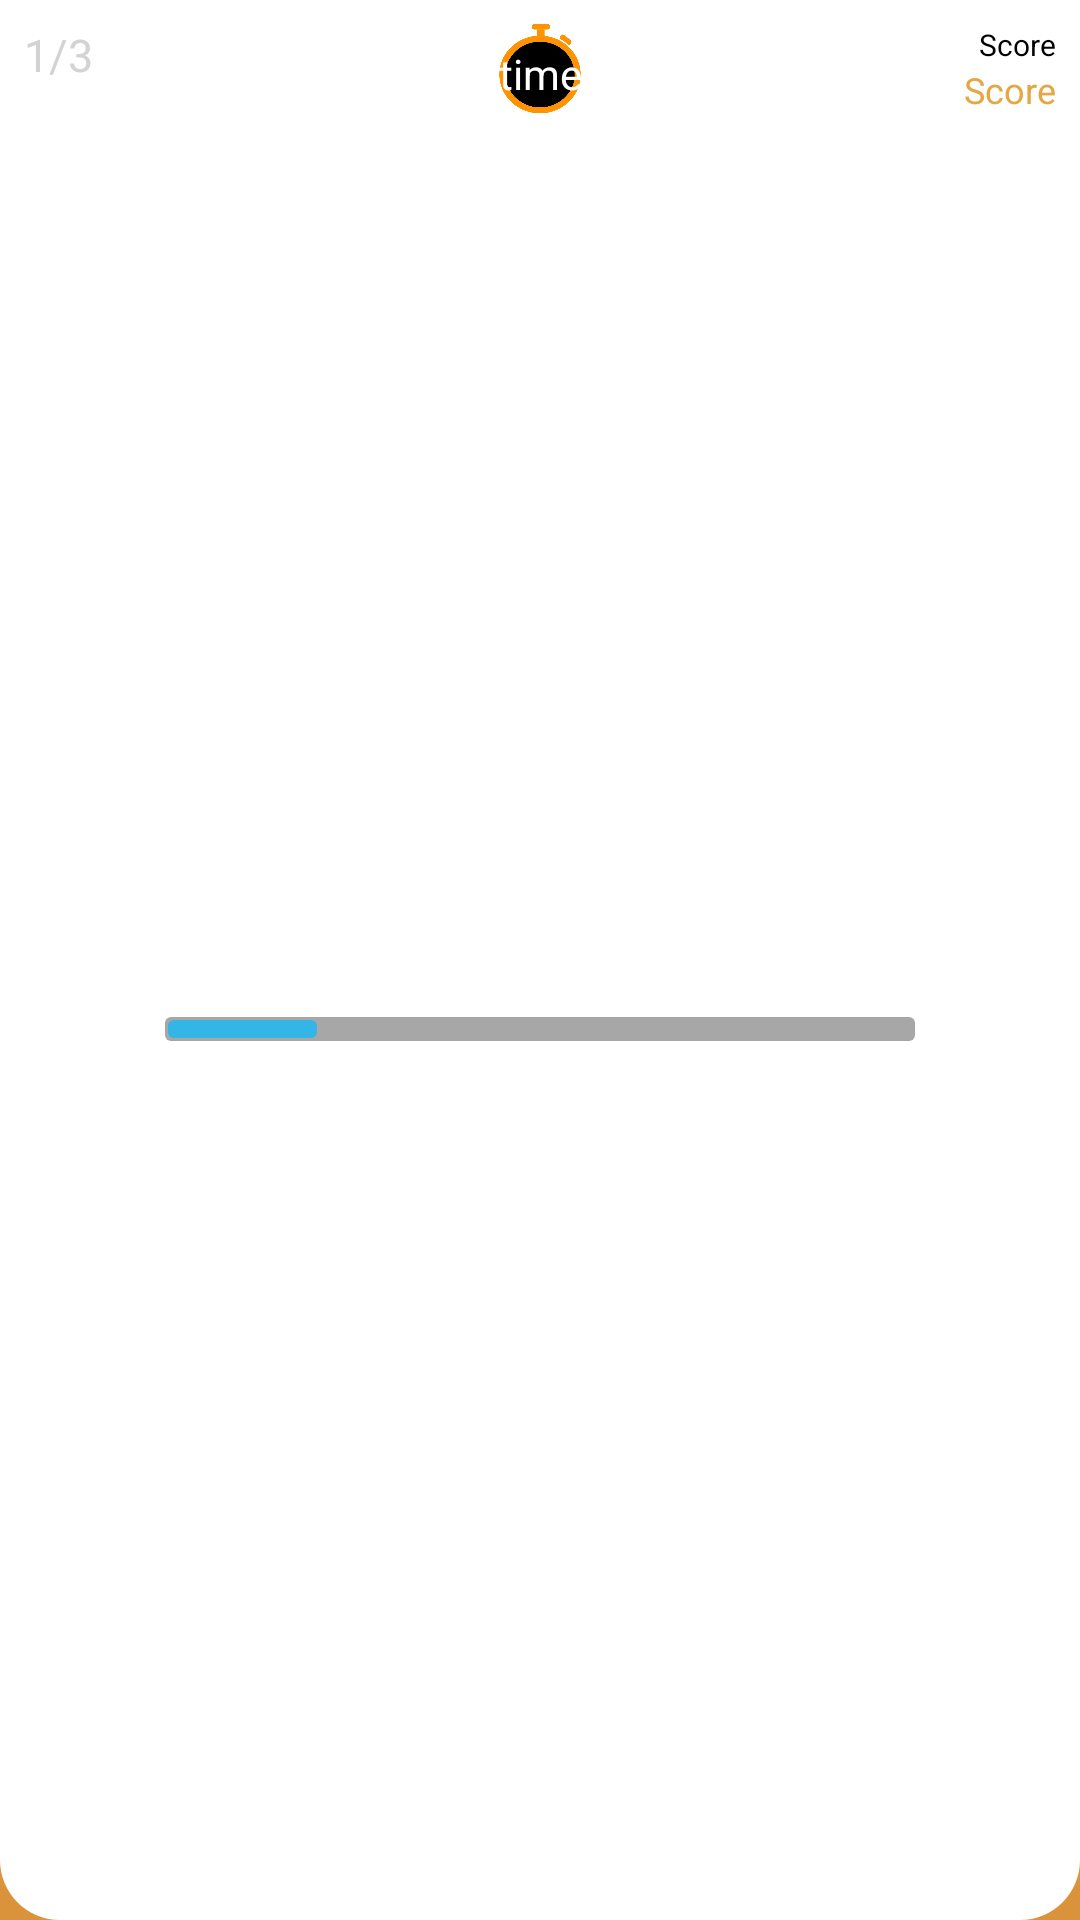

Icons on this 1080 × 1920 Android screen, each with its box as bbox(x1, y1, x2, y2):
clock: bbox(499, 24, 581, 113)
